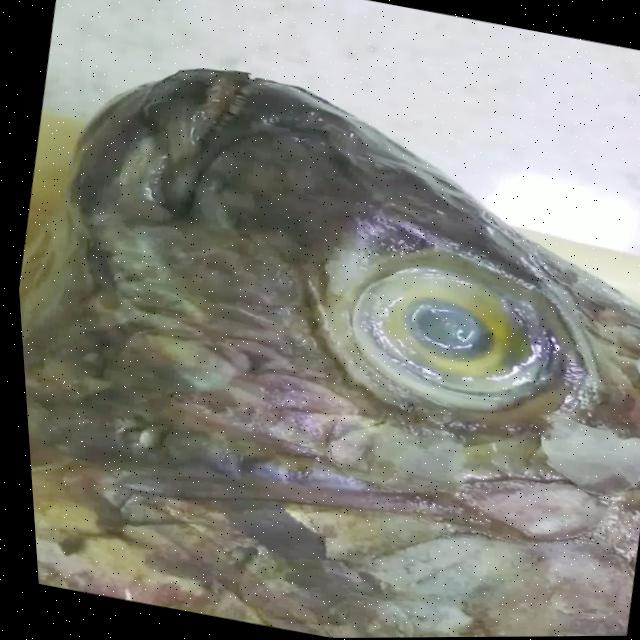Non-Fresh: (325, 238, 564, 434)
